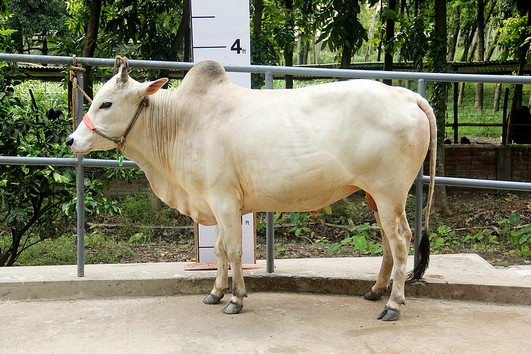cow: (59, 54, 446, 326)
